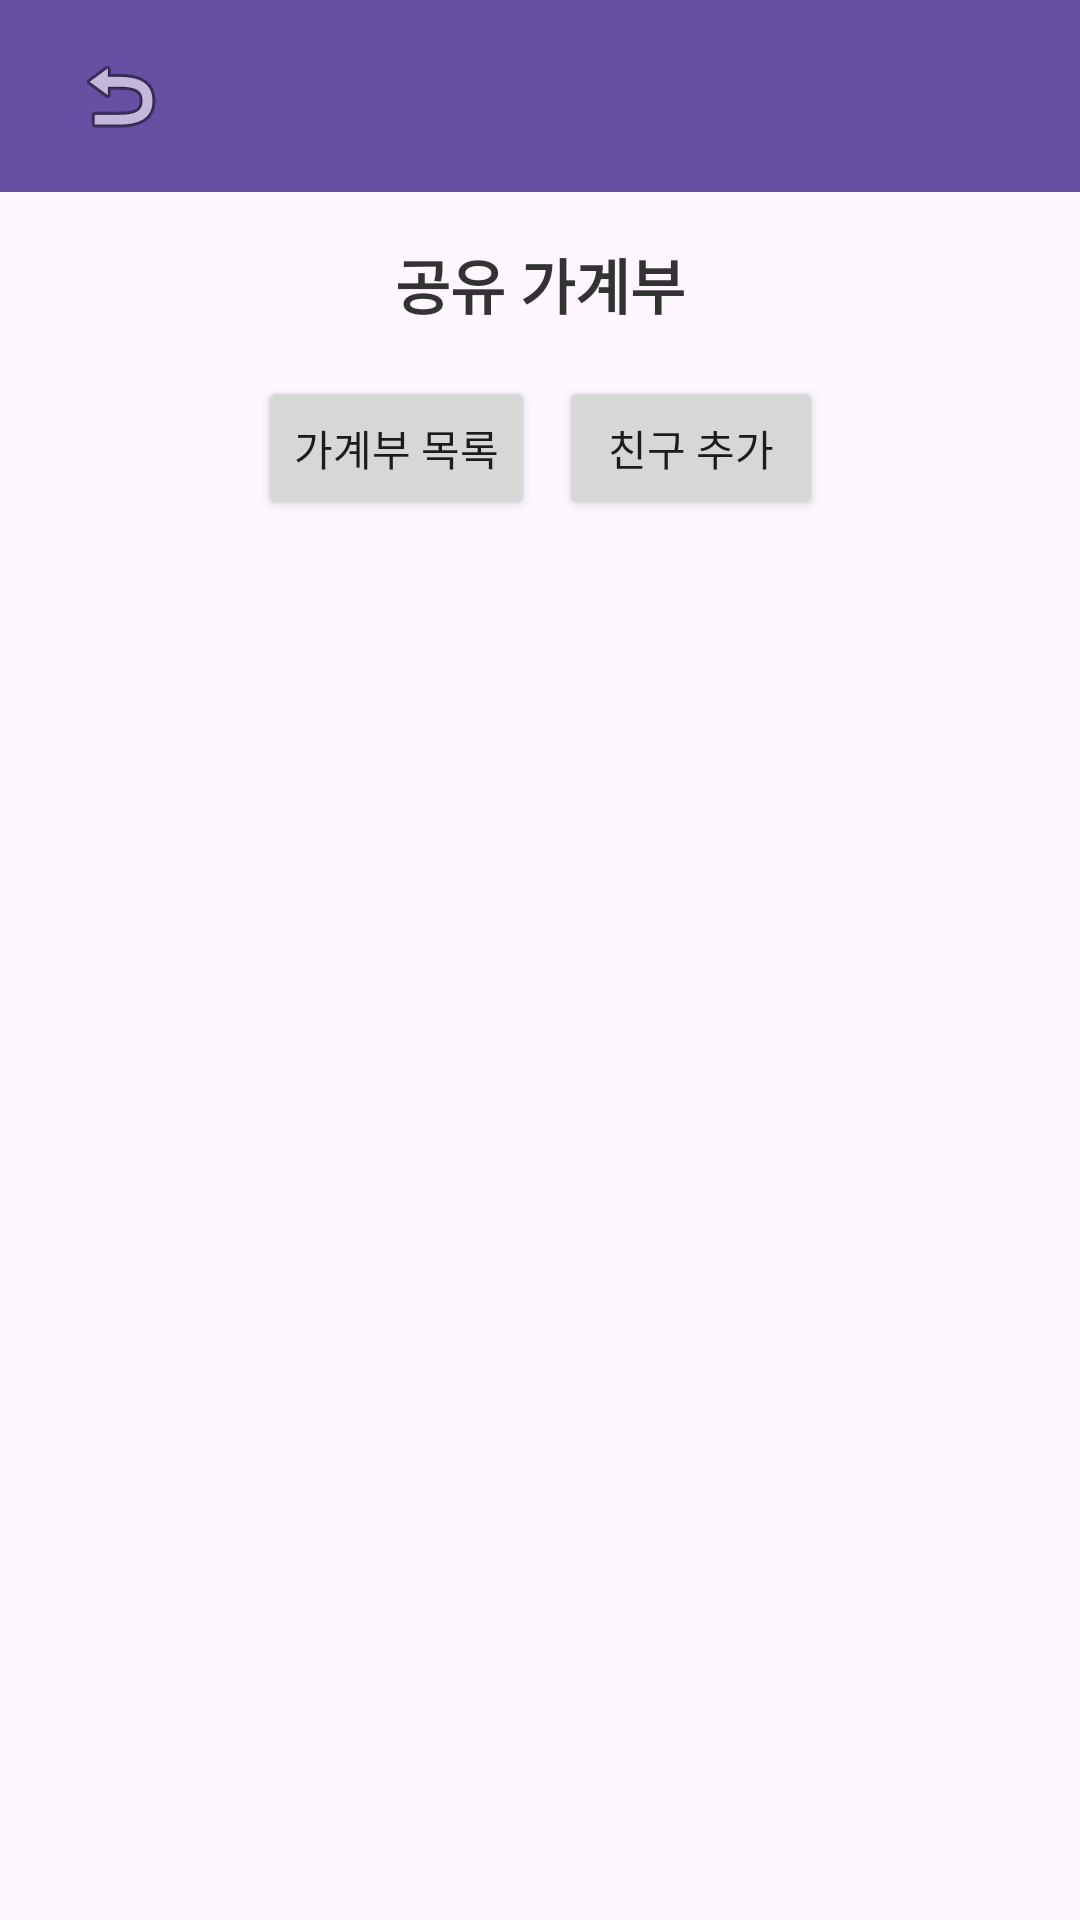

Named icons in this screenshot (1080 x 1920) and their bounding boxes, (x1, y1, x2, y2):
뒤로가기 버튼: (87, 65, 156, 128)
